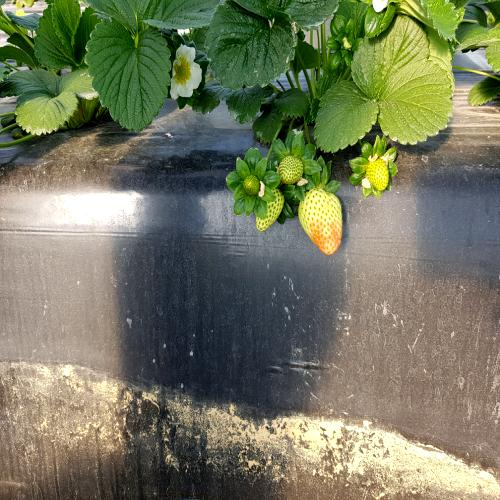partially-ripe: (298, 191, 351, 266)
